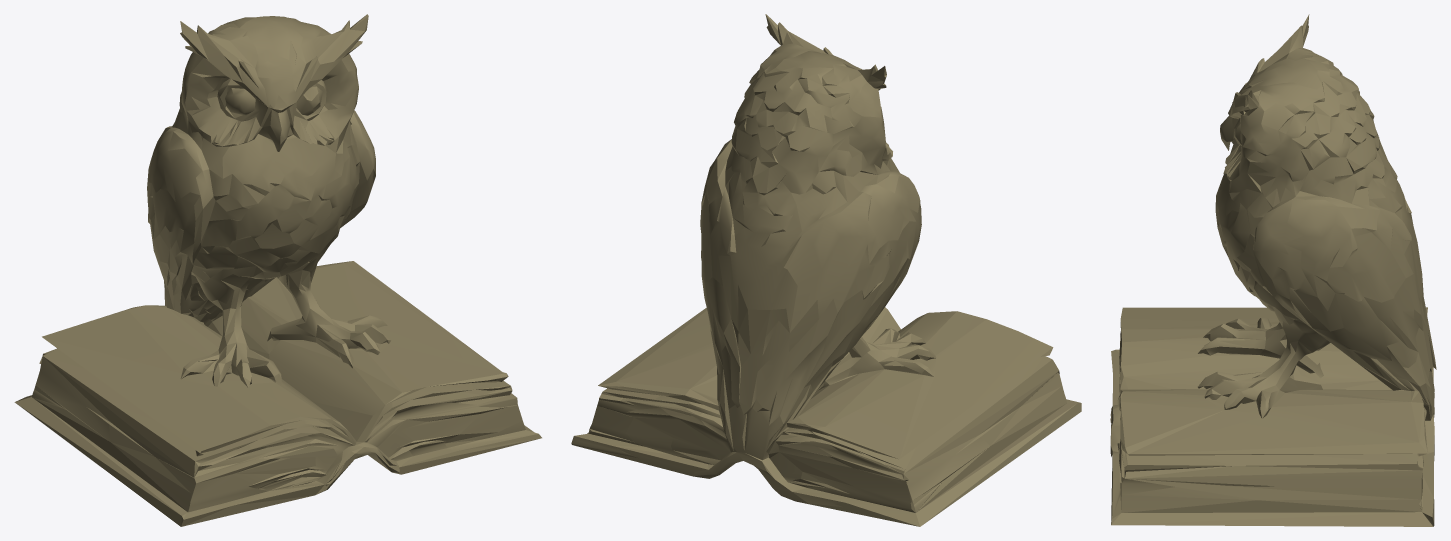
The model's file is owl.glb.
3 views of the same model, side by side, from view 1: azimuth 30°, elevation 25°; view 2: azimuth 150°, elevation 25°; view 3: azimuth 270°, elevation 25° (orthographic). The views are drawn at different scales.
Parts seen in each view (by area): view 1: output_unwrapped; view 2: output_unwrapped; view 3: output_unwrapped.
Part boxes in pixels (box(x1,y1,x2,y2)): output_unwrapped: box(14, 14, 541, 526); output_unwrapped: box(571, 14, 1081, 526); output_unwrapped: box(1110, 14, 1436, 526).
Size of the model in its own units: 1.75 by 1.9 by 1.42.
